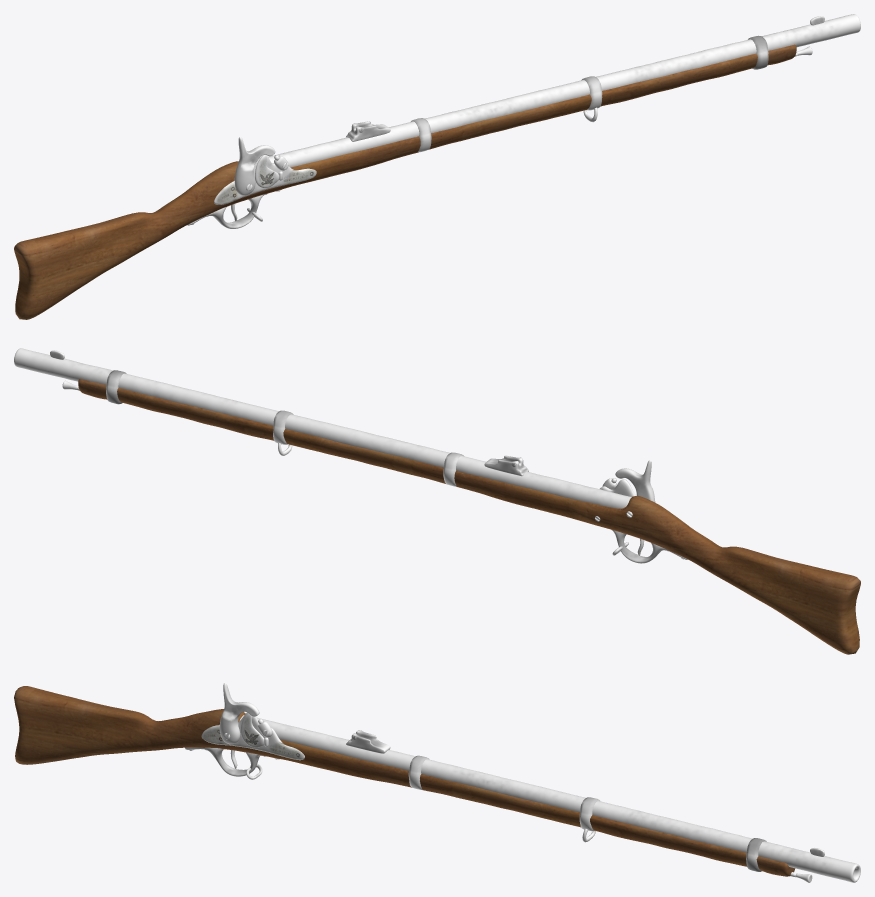
The model's file is Springfield_1855.fbx.
The picture shows the model from 3 angles, top to bottom: view 1: azimuth 30°, elevation 25°; view 2: azimuth 150°, elevation 25°; view 3: azimuth 330°, elevation 25°; orthographic projection.
Parts seen in each view (by area): view 1: Musket_10, Musket_07; view 2: Musket_10, Musket_07; view 3: Musket_10, Musket_07.
Part boxes in pixels (bbox=[...]): Musket_10: bbox=[14, 44, 796, 319]; Musket_07: bbox=[187, 14, 860, 228]; Musket_10: bbox=[78, 379, 860, 654]; Musket_07: bbox=[14, 348, 687, 563]; Musket_10: bbox=[14, 686, 795, 876]; Musket_07: bbox=[185, 683, 860, 882].
Bounding box in the file's own units: 32.23 × 5.02 × 1.29.
2 materials, 2 textured.
